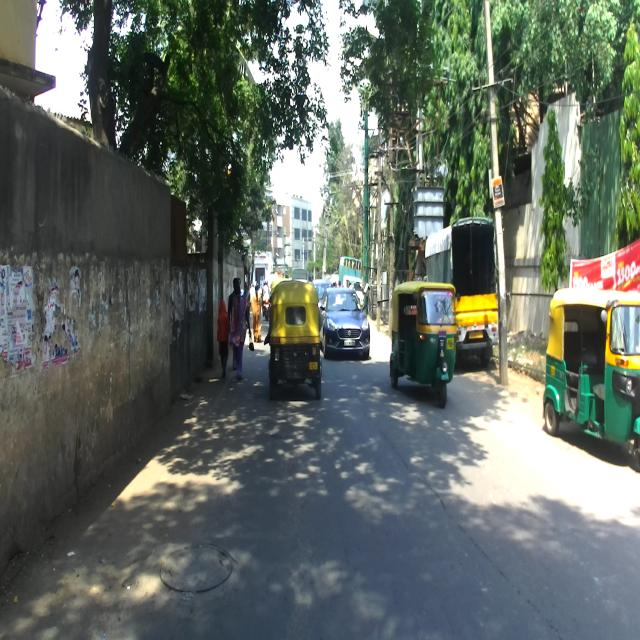auto ahead at: (542, 289, 640, 457), (389, 281, 456, 398), (267, 287, 324, 402)
car ahead at: (327, 291, 373, 359)
electric pole ahead at: (480, 0, 513, 382)
person ahead at: (227, 273, 254, 380)
